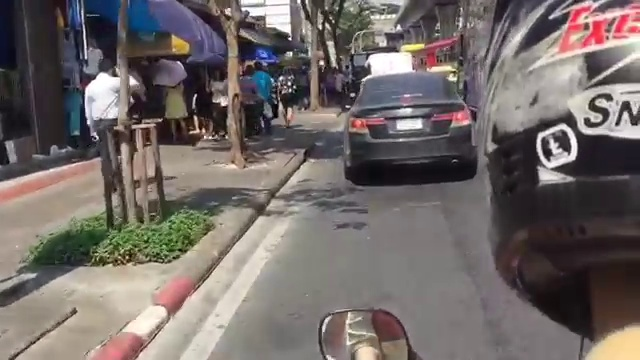helmet: (476, 4, 638, 298)
